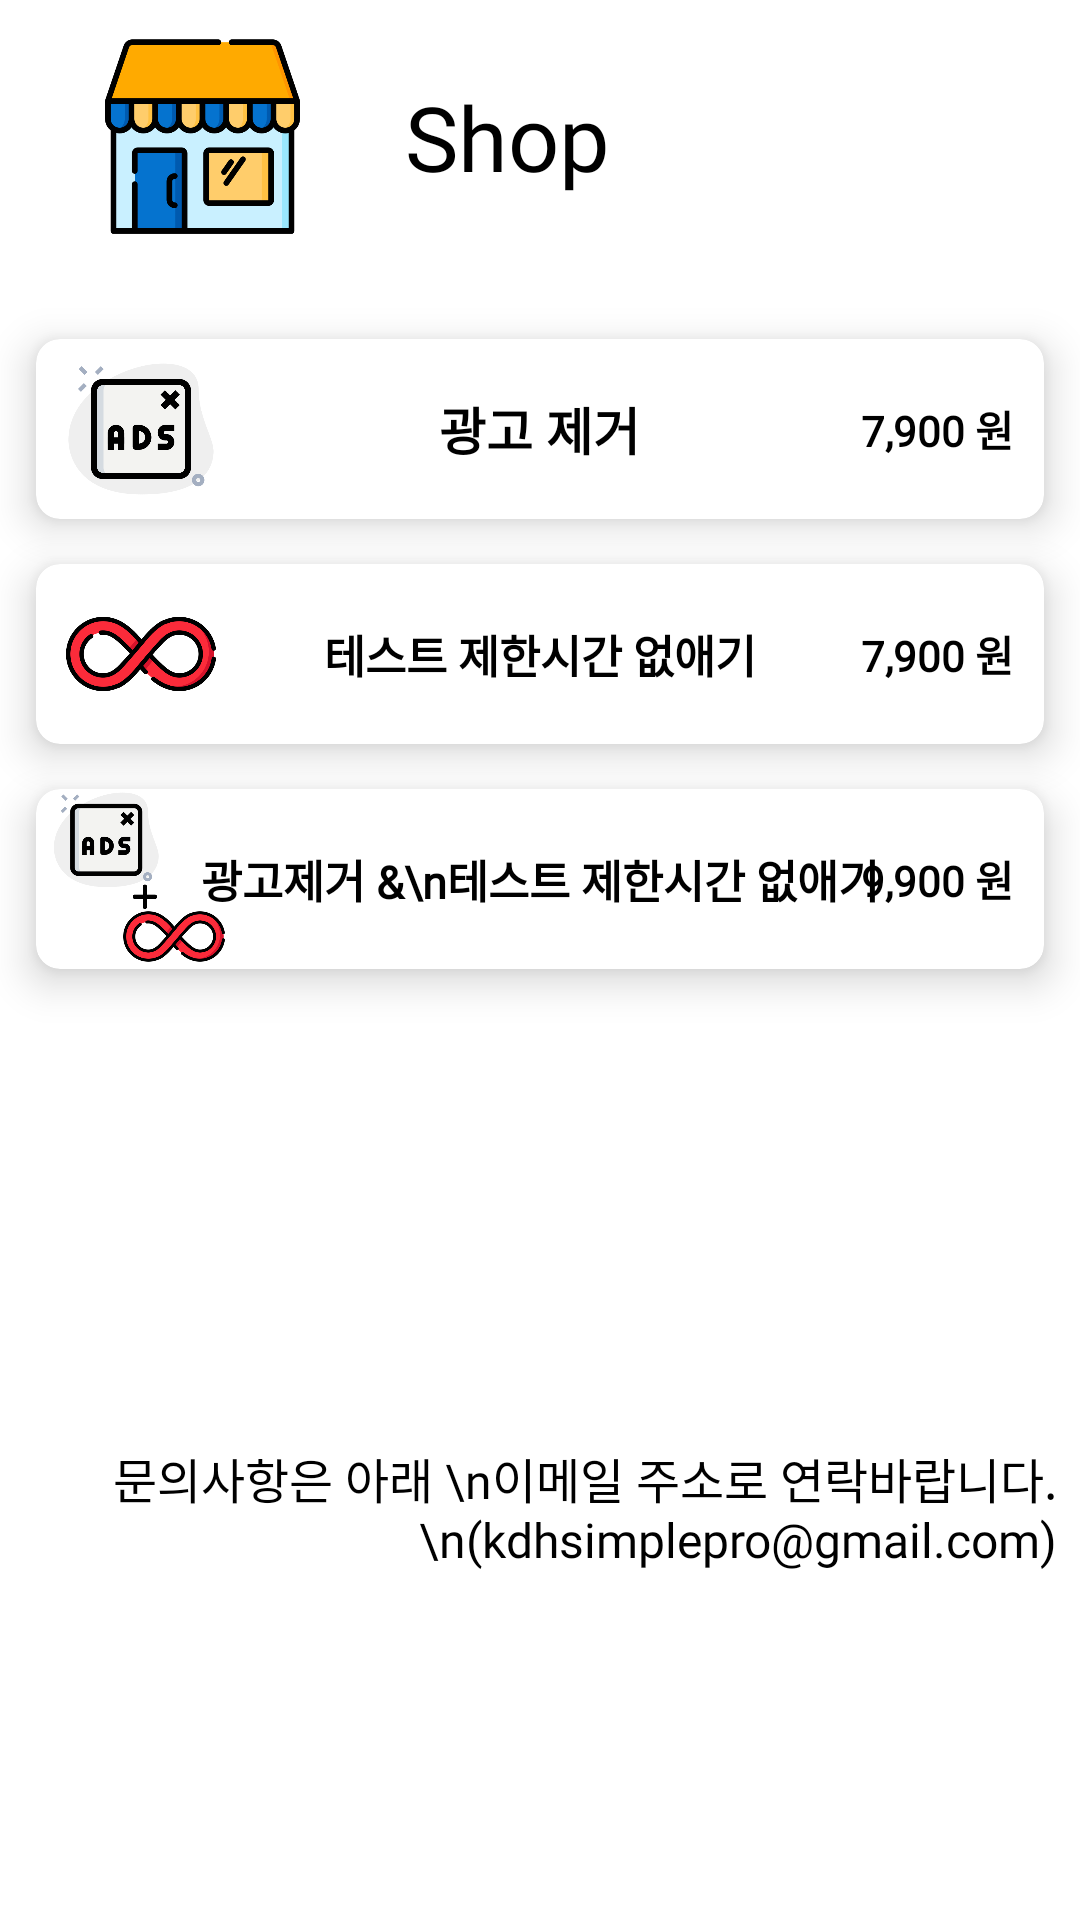

Icons on this 1080 x 1920 Android screen, each with the point to tap as (x,y):
no ads: (141,429)
no ads and unlimited: (145,878)
unlimited: (141,654)
